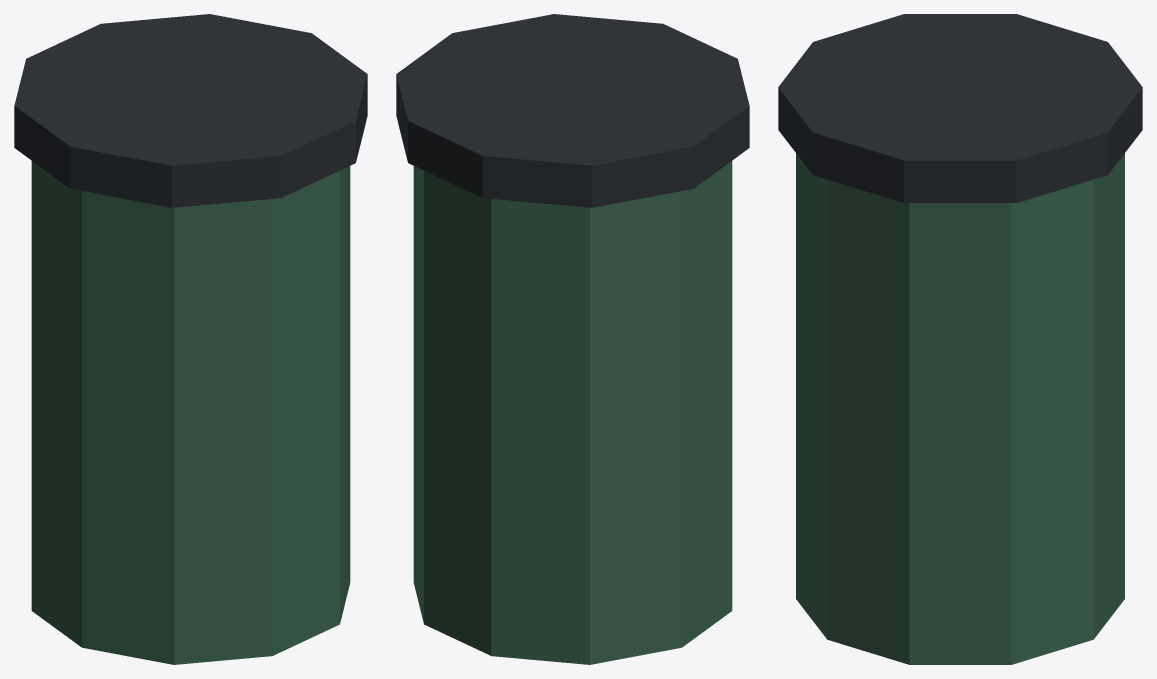
The model's file is bin.glb.
3 views of the same model, side by side, from view 1: azimuth 30°, elevation 25°; view 2: azimuth 150°, elevation 25°; view 3: azimuth 270°, elevation 25° (orthographic).
Parts seen in each view (by area): view 1: Cylinder; view 2: Cylinder; view 3: Cylinder.
Boxes of the visible parts, x1,y1,x2,y2 form: Cylinder: (14, 14, 367, 664); Cylinder: (396, 14, 749, 664); Cylinder: (778, 14, 1142, 664).
Bounding box in the file's own units: 0.5897 × 0.96 × 0.62.
